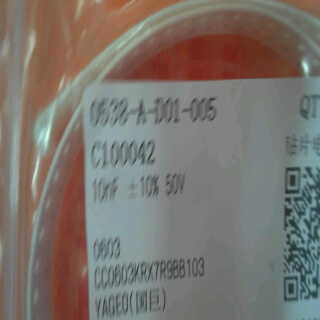10nF: (90, 172, 124, 208)
